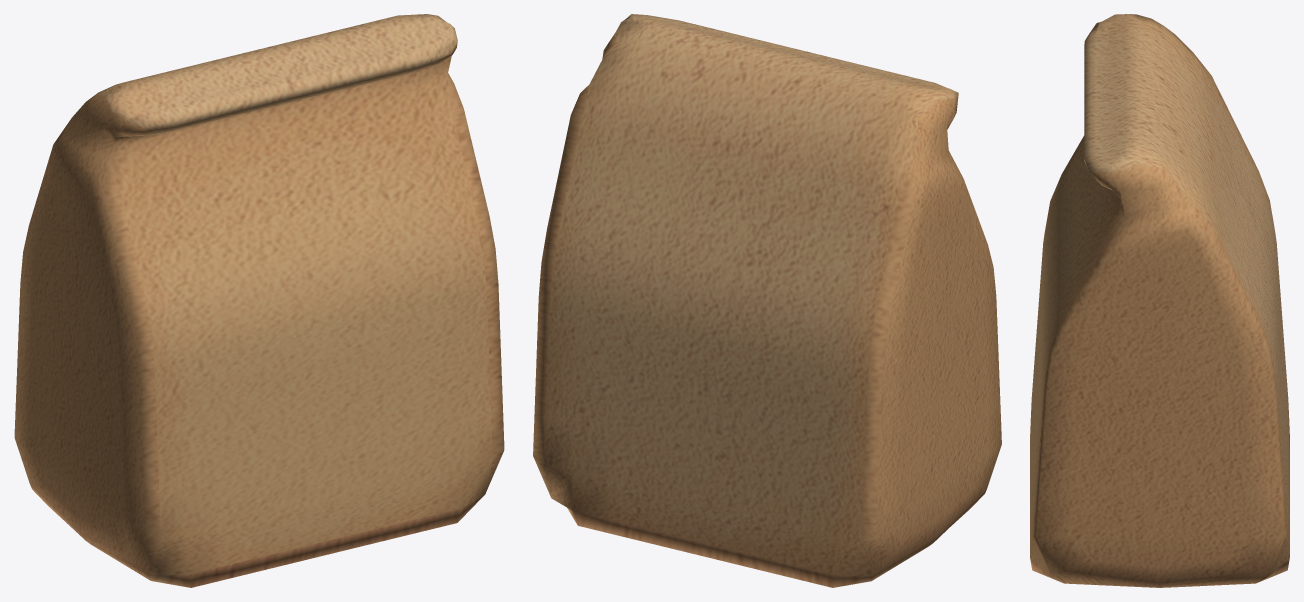
Rendered from packed_lunch.fbx.
The picture shows the model from 3 angles, left to right: view 1: azimuth 30°, elevation 25°; view 2: azimuth 150°, elevation 25°; view 3: azimuth 270°, elevation 25°; orthographic projection. The views are drawn at different scales.
Visible parts, largest first — view 1: pCube1; view 2: pCube1; view 3: pCube1.
Part boxes in pixels (x1,y1,x2,y2): pCube1: (14, 14, 504, 587); pCube1: (533, 14, 1001, 587); pCube1: (1030, 14, 1289, 587).
Bounding box in the file's own units: 8.18 × 9.89 × 5.4.
Materials: 1 (1 with a texture image).
